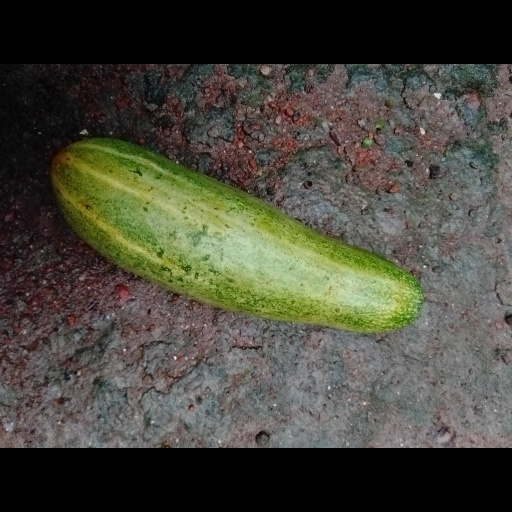concombre: (49, 137, 425, 335)
